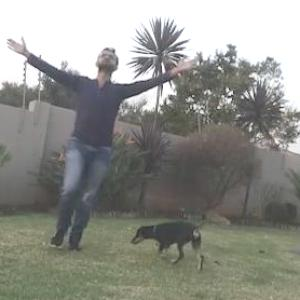takeoff: (7, 43, 183, 243)
